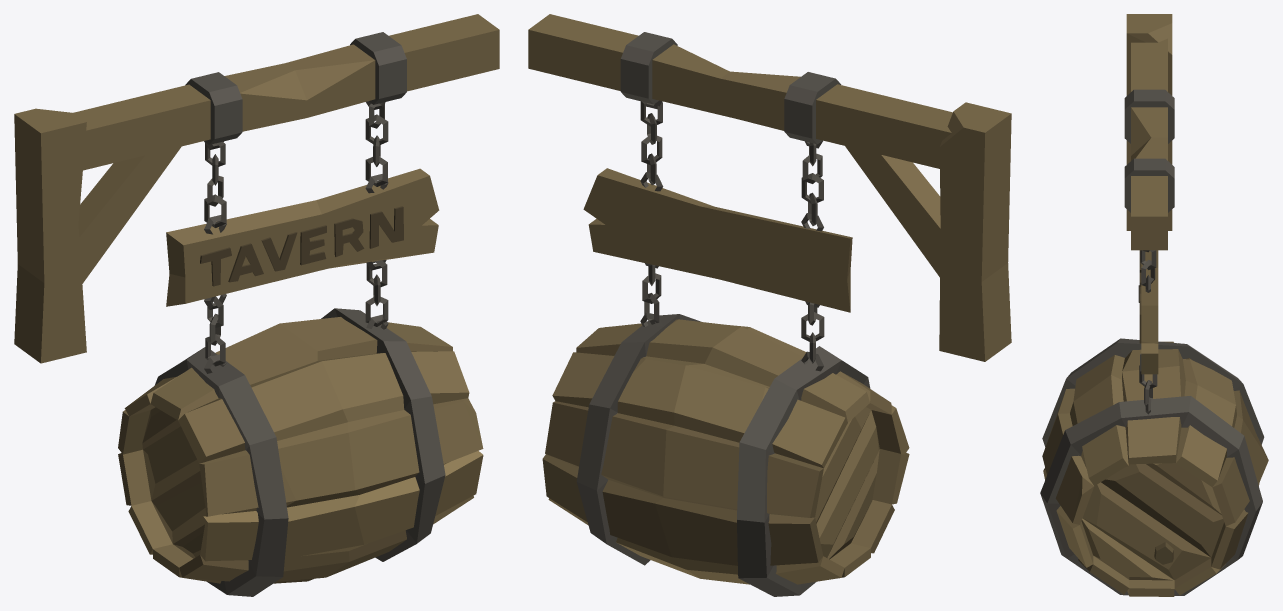
File: Signboard_6.fbx
3 views of the same model, side by side, from view 1: azimuth 30°, elevation 25°; view 2: azimuth 150°, elevation 25°; view 3: azimuth 270°, elevation 25° (orthographic). The views are drawn at different scales.
Visible parts, largest first — view 1: Signboard_6; view 2: Signboard_6; view 3: Signboard_6.
Part boxes in pixels (left/top/right/bottom): Signboard_6: left=14, top=14, right=499, bottom=596; Signboard_6: left=528, top=14, right=1011, bottom=596; Signboard_6: left=1040, top=14, right=1268, bottom=596.
Size of the model in its own units: 98.01 by 104 by 48.99.
